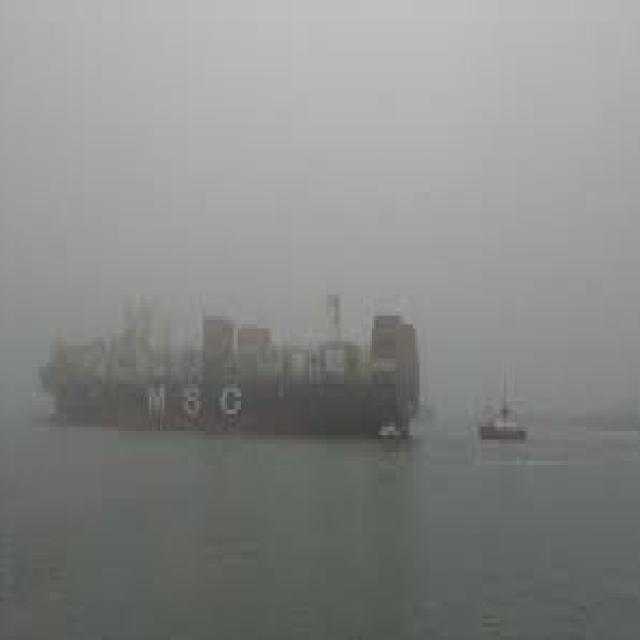cargoship: (43, 284, 420, 444)
houseboat: (479, 380, 527, 442)
